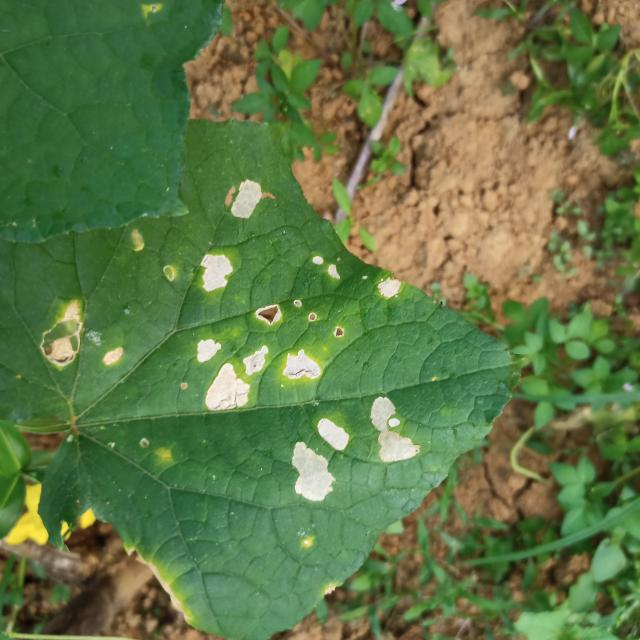disease_cucumber: (194, 301, 323, 415), (39, 298, 124, 372), (292, 416, 351, 504), (368, 396, 423, 467), (226, 177, 265, 222), (196, 250, 234, 296), (310, 252, 344, 284), (372, 274, 406, 304)
